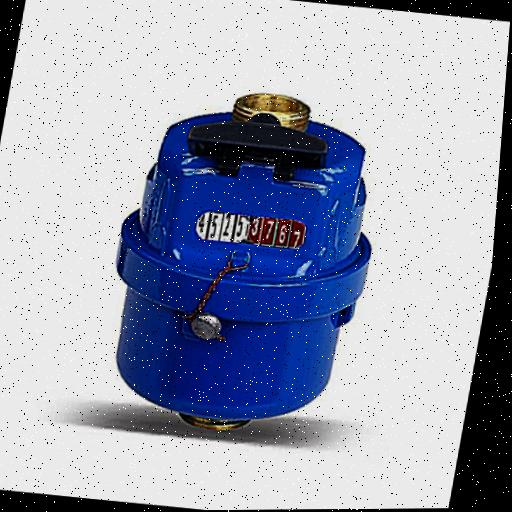2: (219, 213, 236, 243)
3: (247, 216, 264, 245)
4: (193, 211, 211, 239)
5: (232, 214, 251, 244), (207, 212, 224, 240)
6: (274, 219, 292, 248)
7: (289, 220, 311, 250), (261, 217, 277, 246)
border_water_meter_number: (192, 209, 310, 251)
